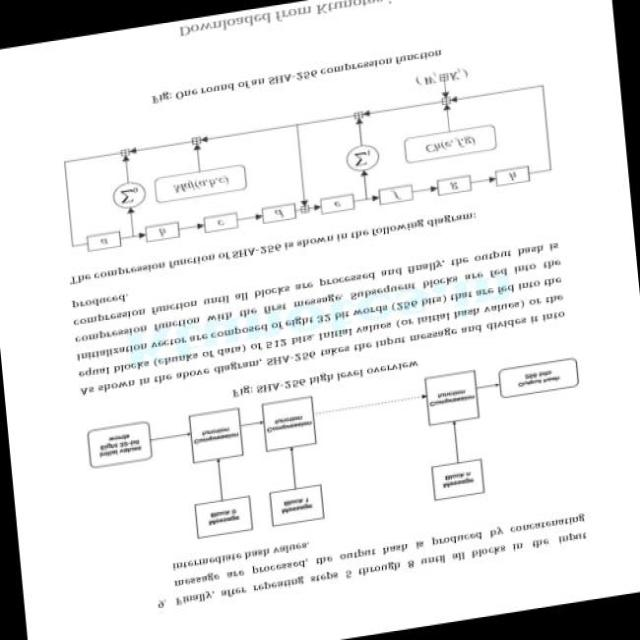Figure Detection - v3 Dataset Version2: (45, 43, 582, 268), (74, 344, 598, 567)
